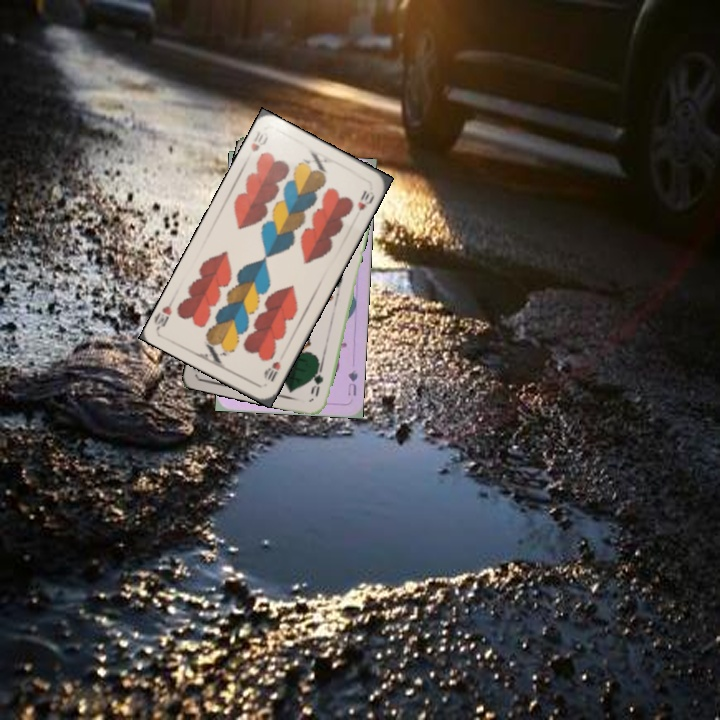GO: (307, 360, 326, 399)
GU: (344, 366, 361, 399)
H10: (247, 127, 271, 155), (260, 357, 283, 384)
